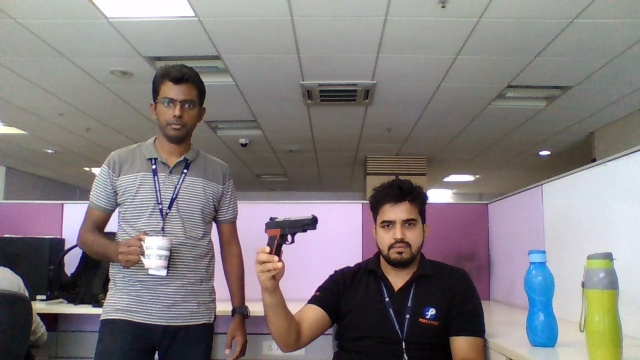gun: (261, 213, 317, 248)
